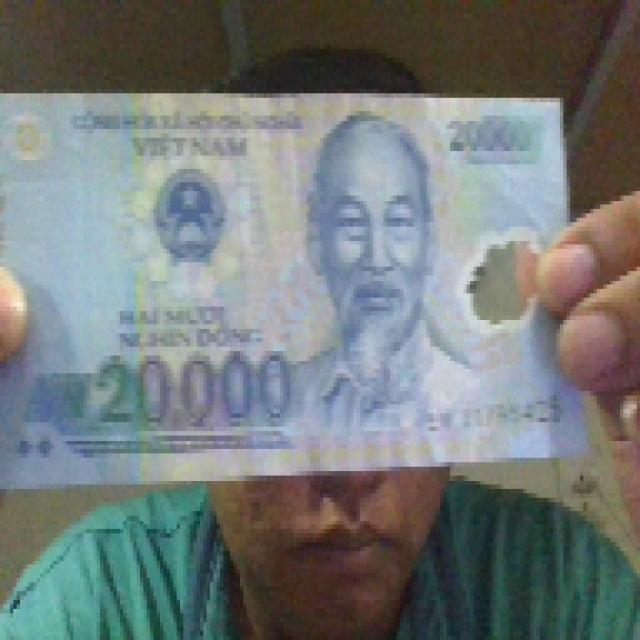20 000 VND: (0, 84, 597, 484)
